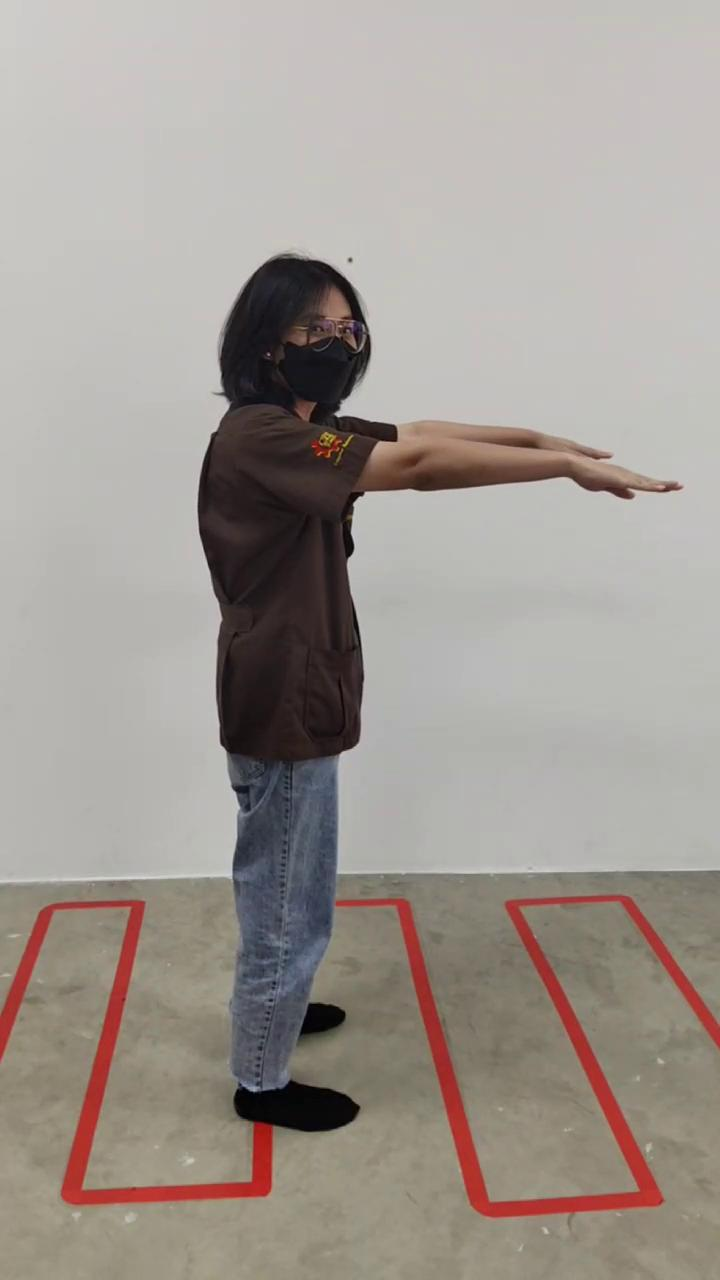squat up: (197, 256, 669, 1132)
